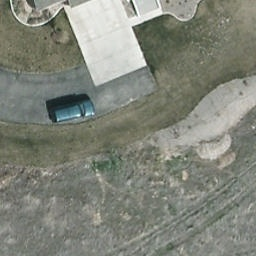car: (48, 100, 96, 125)
